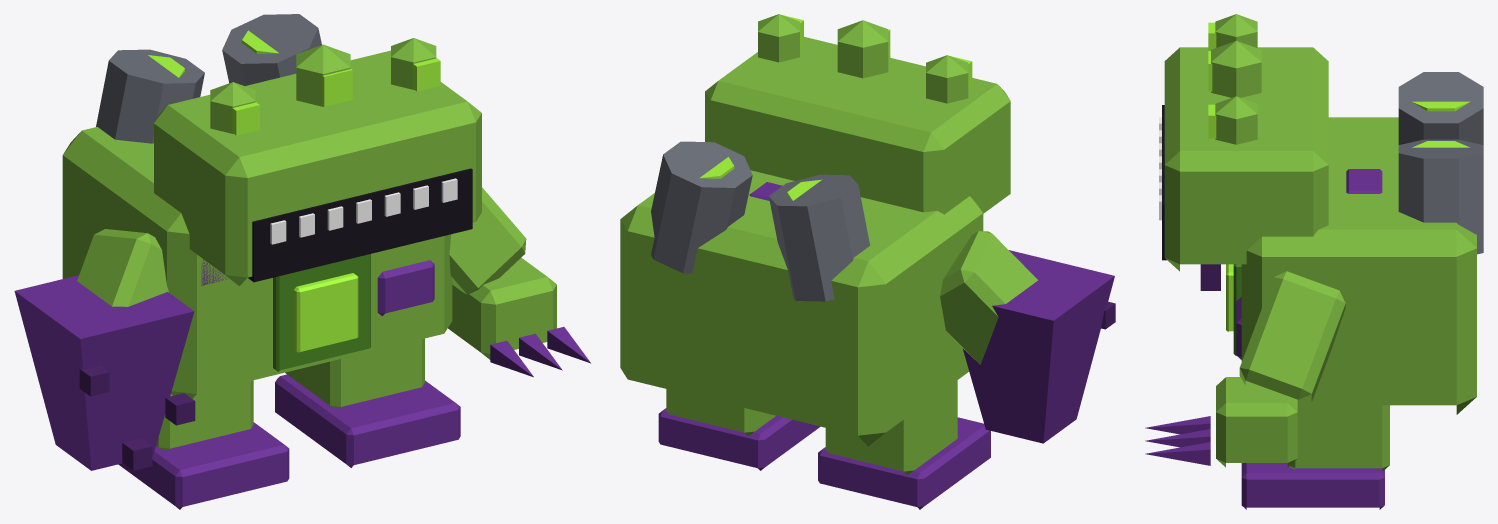
File: r11_boss_mutant_behemoth.glb
3 views of the same model, side by side, from view 1: azimuth 30°, elevation 25°; view 2: azimuth 150°, elevation 25°; view 3: azimuth 270°, elevation 25° (orthographic). The views are drawn at different scales.
Visible parts, largest first — view 1: r11_boss_mutant_behemoth_mesh; view 2: r11_boss_mutant_behemoth_mesh; view 3: r11_boss_mutant_behemoth_mesh.
Boxes of the visible parts, x1=… form: r11_boss_mutant_behemoth_mesh: x1=14, y1=14, x2=590, y2=509; r11_boss_mutant_behemoth_mesh: x1=620, y1=14, x2=1115, y2=509; r11_boss_mutant_behemoth_mesh: x1=1145, y1=14, x2=1483, y2=509.
Size of the model in its own units: 9.32 by 8 by 6.06.
Materials: 1 (1 with a texture image).
